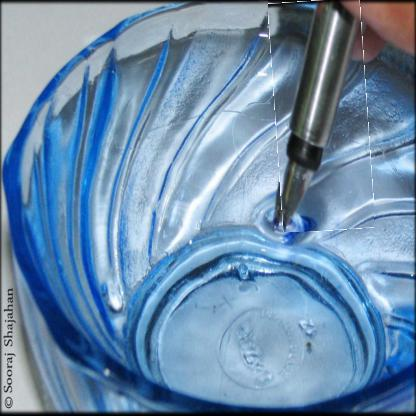Pen: (272, 0, 373, 232)
